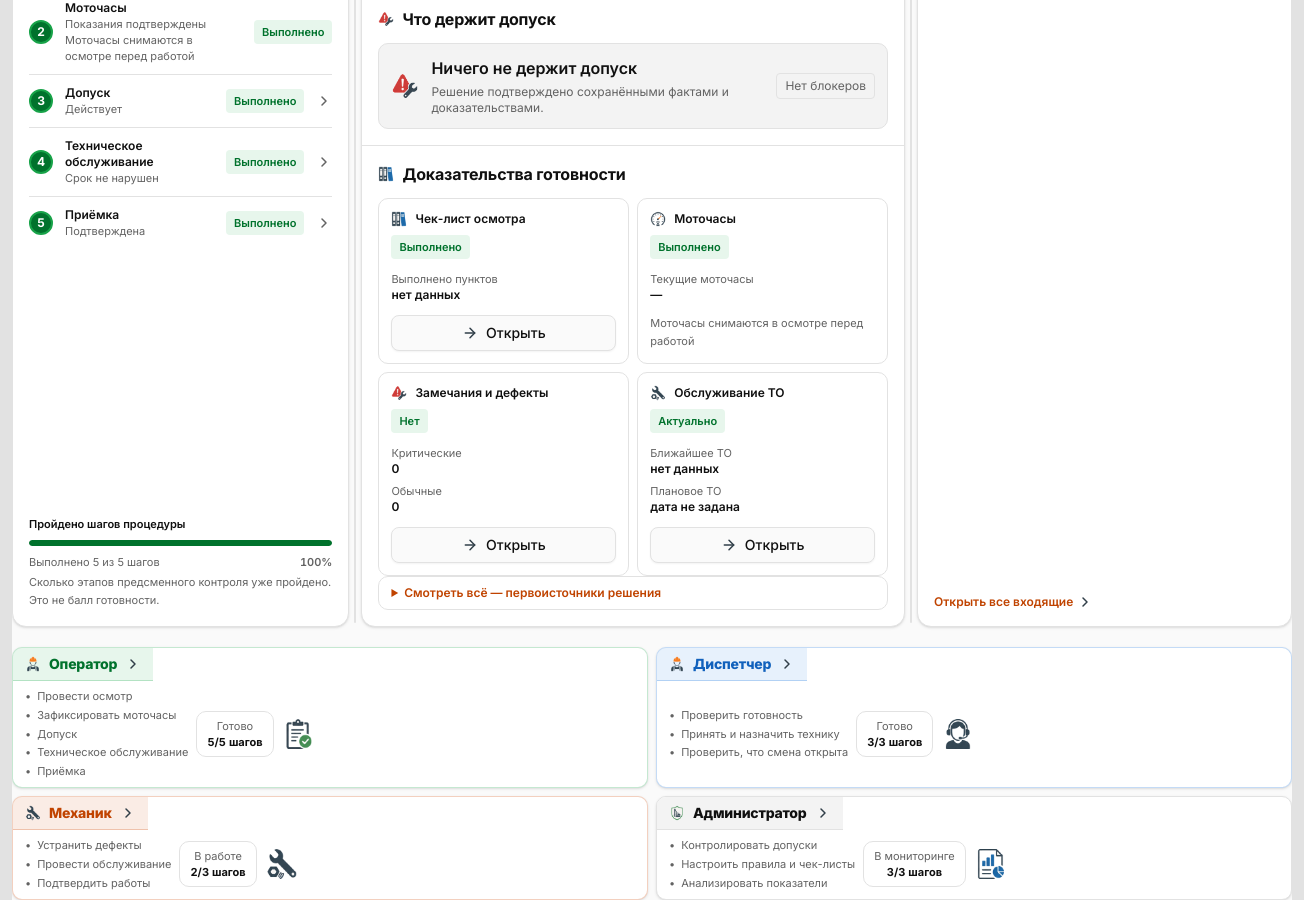
Test: Шаги ролей: тупики и ложные «выполнено» (W66) › диспетчер: «Проверить, что смена открыта» загорается открытой сменой и подписан исполнителем (W71)
(page scrolled)
Click the button with aria-label "Диспетчер: что делать сейчас" at (974, 718), box x1=657 y1=648 x2=1291 y2=787
(page scrolled)
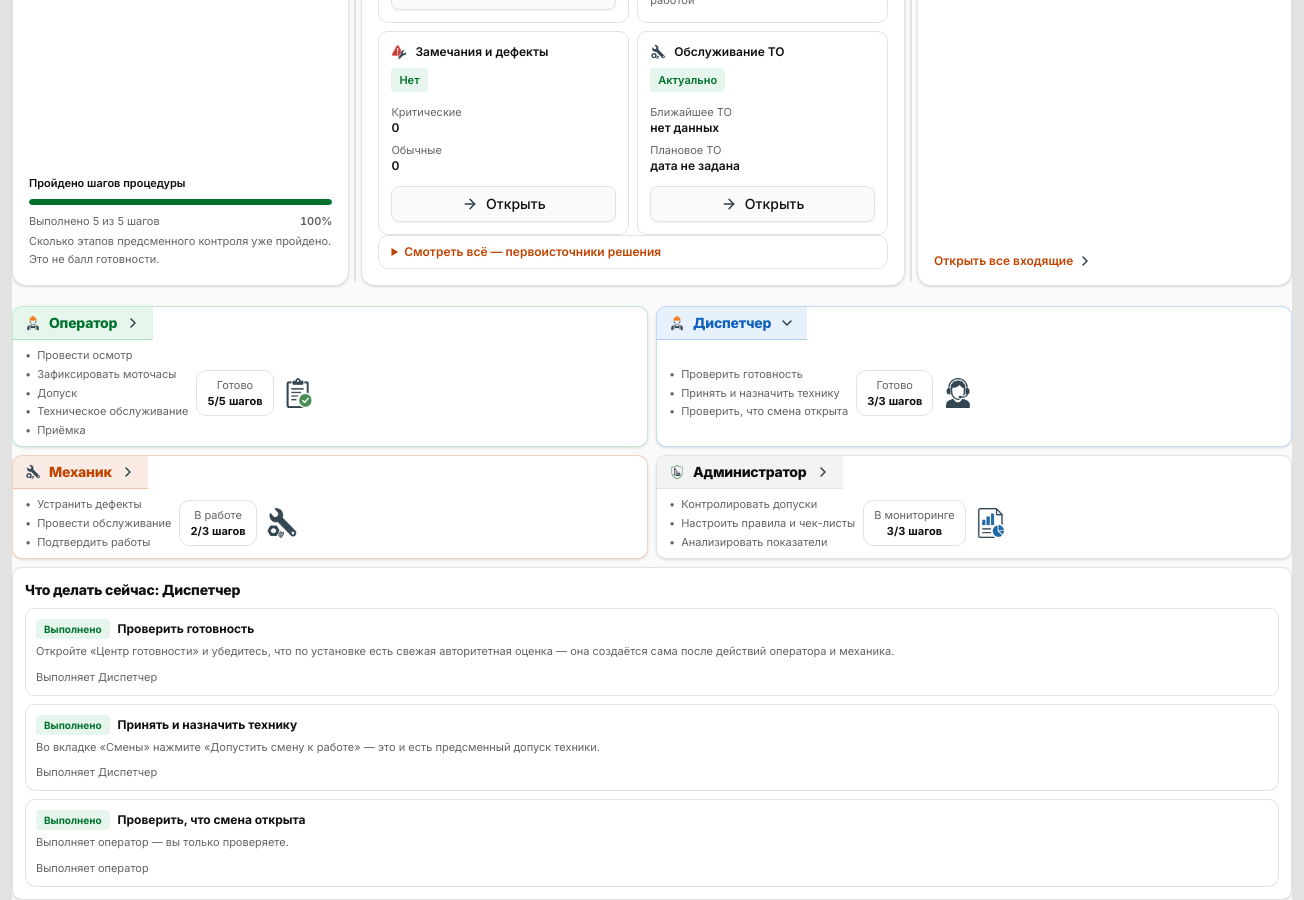
Now the 2nd text "Выполнено" is shown, box x1=36 y1=714 x2=110 y2=734
Now the 3rd text "Выполнено" is shown, box x1=36 y1=810 x2=110 y2=830
Now the text "Выполняет оператор" is shown, box x1=36 y1=861 x2=149 y2=875
